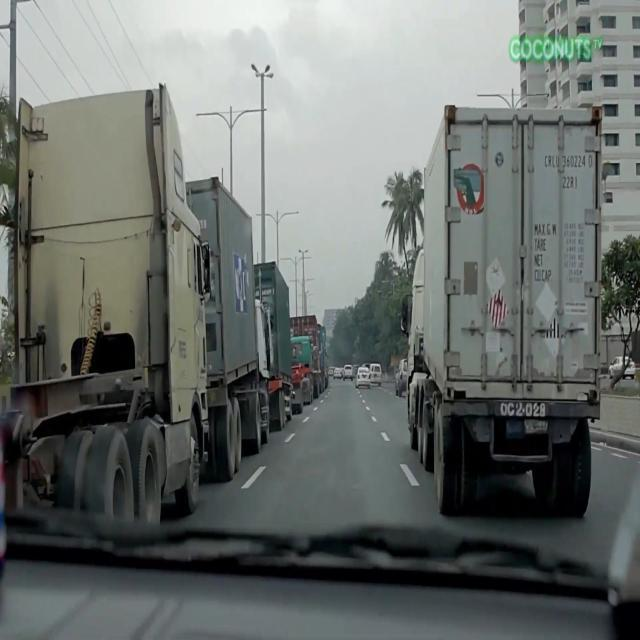truck: (0, 80, 209, 533), (400, 100, 601, 526), (186, 178, 272, 484), (253, 258, 296, 431), (292, 334, 314, 416)
